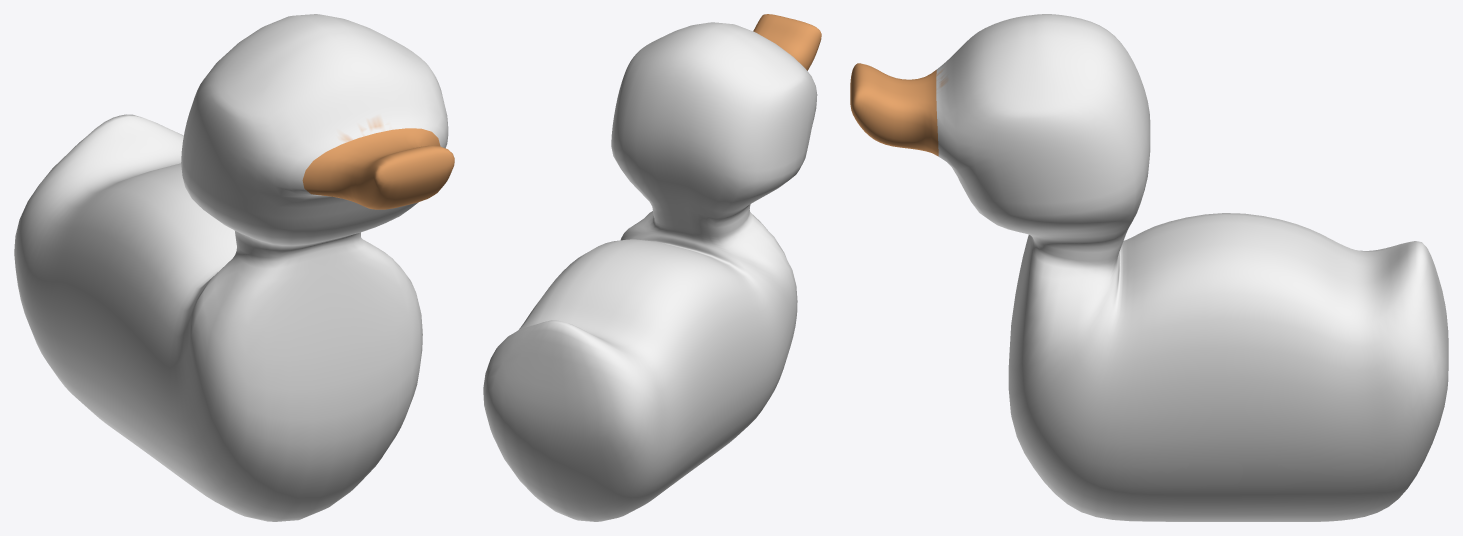
The model's file is Ducky.fbx.
3 views of the same model, side by side, from view 1: azimuth 30°, elevation 25°; view 2: azimuth 150°, elevation 25°; view 3: azimuth 270°, elevation 25° (orthographic). The views are drawn at different scales.
Parts seen in each view (by area): view 1: Ducky; view 2: Ducky; view 3: Ducky.
Boxes of the visible parts, x1=… form: Ducky: x1=14, y1=14, x2=454, y2=521; Ducky: x1=483, y1=14, x2=821, y2=521; Ducky: x1=850, y1=14, x2=1448, y2=521.
Bounding box in the file's own units: 8.16 × 18.44 × 20.31.
